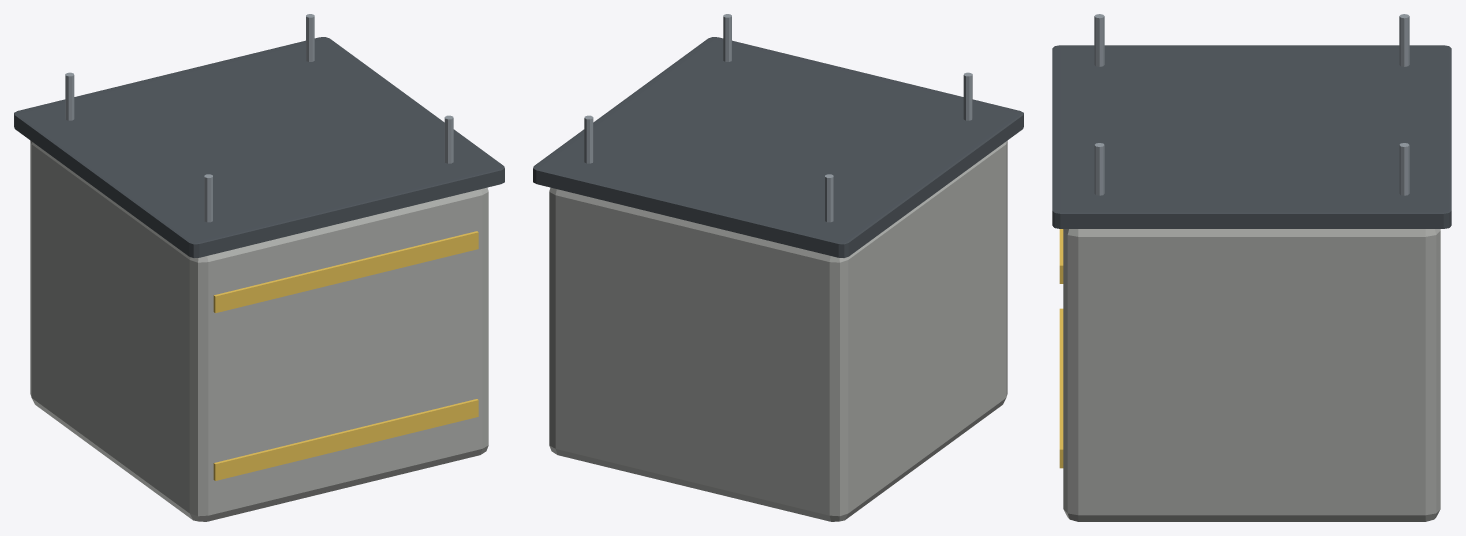
Rendered from block_large.glb.
The picture shows the model from 3 angles, left to right: view 1: azimuth 30°, elevation 25°; view 2: azimuth 150°, elevation 25°; view 3: azimuth 270°, elevation 25°; orthographic projection. The views are drawn at different scales.
Parts seen in each view (by area): view 1: Body, Cap, Stripe.001, Stripe; view 2: Body, Cap; view 3: Body, Cap, Stripe, Rebar.002, Rebar.003, Rebar, Rebar.001.
Part boxes in pixels (left/top/right/bottom): Body: left=30, top=140, right=488, bottom=521; Cap: left=14, top=37, right=504, bottom=257; Stripe.001: left=213, top=231, right=478, bottom=313; Stripe: left=213, top=399, right=478, bottom=480; Body: left=549, top=140, right=1007, bottom=521; Cap: left=533, top=37, right=1023, bottom=257; Body: left=1063, top=229, right=1440, bottom=521; Cap: left=1052, top=45, right=1451, bottom=228; Stripe: left=1059, top=308, right=1063, bottom=468; Rebar.002: left=1094, top=143, right=1104, bottom=195; Rebar.003: left=1399, top=143, right=1409, bottom=195; Rebar: left=1094, top=14, right=1104, bottom=66; Rebar.001: left=1399, top=14, right=1409, bottom=66.
Size of the model in its own units: 2.75 by 2.79 by 2.75.
